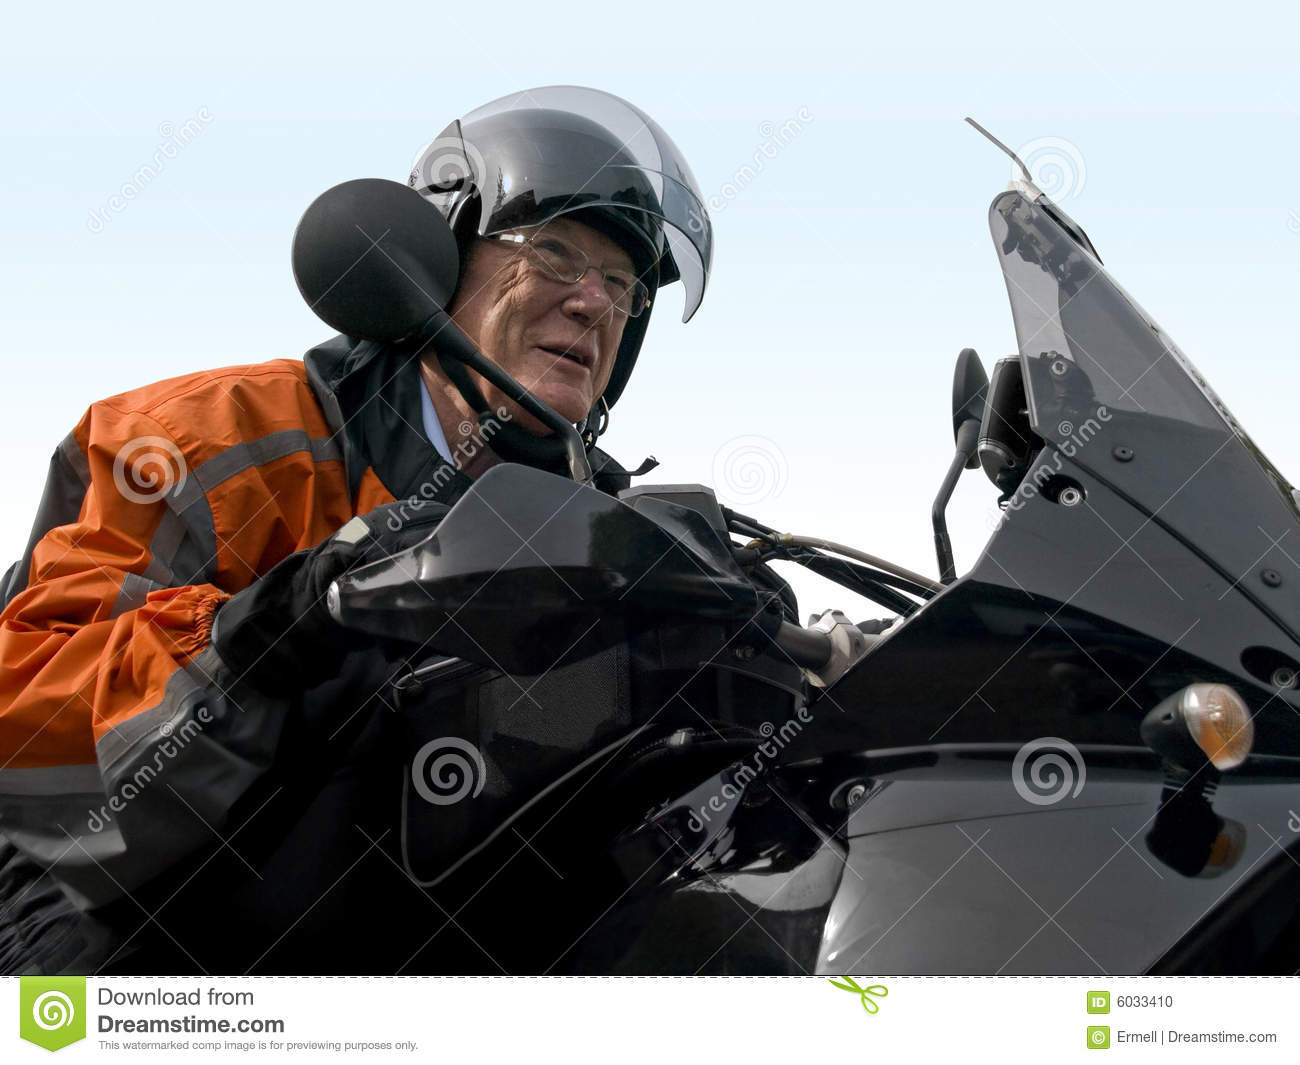helmet: (414, 96, 693, 293)
